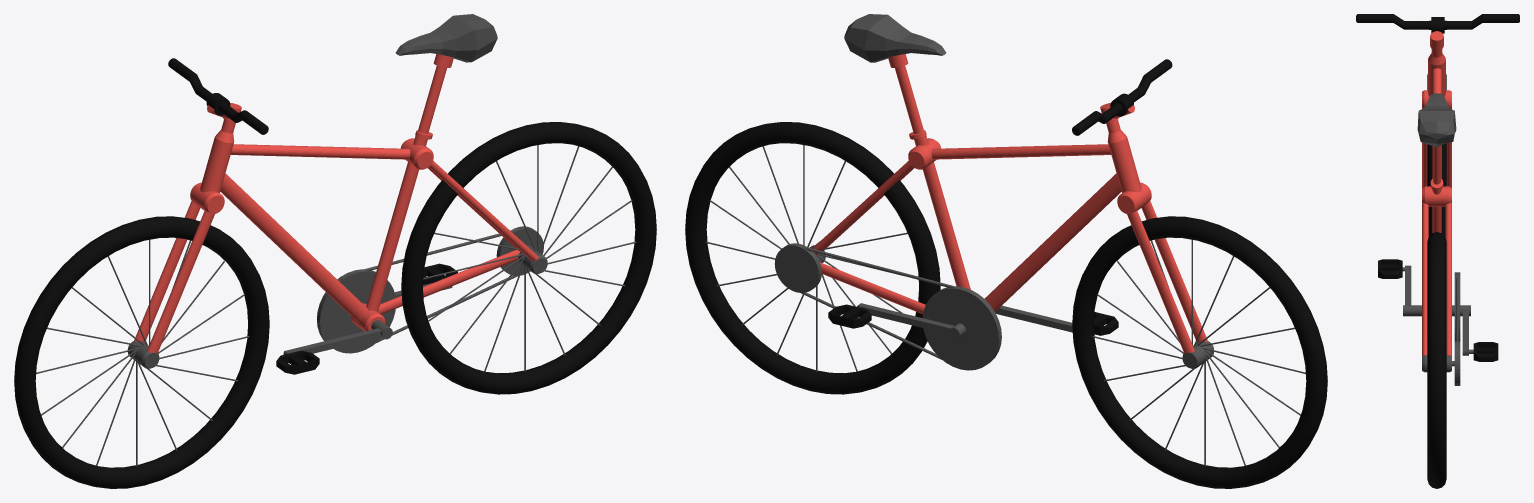
File: Bicycle.fbx
3 renders of one model, left to right at view 1: azimuth 30°, elevation 25°; view 2: azimuth 150°, elevation 25°; view 3: azimuth 270°, elevation 25°, orthographic. The views are drawn at different scales.
Visible parts, largest first — view 1: Tire.001, Spokes, Down Tube, Tire, Spokes.001, Crank Set, Fork, Seat, Frame, Pedals, Head set, Tob Tube (+6 smaller); view 2: Spokes, Tire.001, Crank Set, Tire, Fork, Pedals, Down Tube, Seat, Spokes.001, Frame, Head set, Tob Tube (+6 smaller); view 3: Tire.001, Pedals, Seat Stay, Seat, Handle Bars, Head set, Frame, Spokes, Fork, Cassette set, Crank Set, Tob Tube (+2 smaller).
Boxes of the visible parts, bbox=[...] form: Tire.001: bbox=[401, 122, 656, 394]; Spokes: bbox=[14, 216, 269, 488]; Down Tube: bbox=[220, 173, 368, 322]; Tire: bbox=[36, 239, 249, 466]; Spokes.001: bbox=[423, 145, 636, 371]; Crank Set: bbox=[317, 269, 395, 353]; Fork: bbox=[134, 201, 214, 353]; Seat: bbox=[395, 14, 497, 62]; Frame: bbox=[366, 130, 433, 311]; Pedals: bbox=[276, 263, 457, 374]; Head set: bbox=[190, 103, 241, 213]; Tob Tube: bbox=[230, 144, 410, 159]; Spokes: bbox=[1072, 216, 1327, 488]; Tire.001: bbox=[685, 122, 940, 394]; Crank Set: bbox=[922, 286, 1001, 370]; Tire: bbox=[1092, 240, 1305, 466]; Fork: bbox=[1127, 201, 1207, 353]; Pedals: bbox=[828, 303, 1118, 339]; Down Tube: bbox=[984, 173, 1121, 311]; Seat: bbox=[844, 14, 946, 62]; Spokes.001: bbox=[705, 145, 907, 371]; Frame: bbox=[908, 130, 970, 289]; Head set: bbox=[1100, 103, 1151, 213]; Tob Tube: bbox=[931, 144, 1111, 159]; Tire.001: bbox=[1427, 232, 1446, 488]; Pedals: bbox=[1378, 259, 1498, 361]; Seat Stay: bbox=[1422, 203, 1451, 356]; Seat: bbox=[1417, 93, 1456, 147]; Handle Bars: bbox=[1356, 14, 1519, 33]; Head set: bbox=[1422, 31, 1451, 109]; Frame: bbox=[1422, 178, 1451, 232]; Spokes: bbox=[1427, 74, 1446, 236]; Fork: bbox=[1422, 142, 1451, 187]; Cassette set: bbox=[1422, 341, 1460, 385]; Crank Set: bbox=[1454, 272, 1460, 341]; Tob Tube: bbox=[1432, 68, 1441, 178].
Bounding box in the file's own units: 128 × 73.32 × 32.14.
